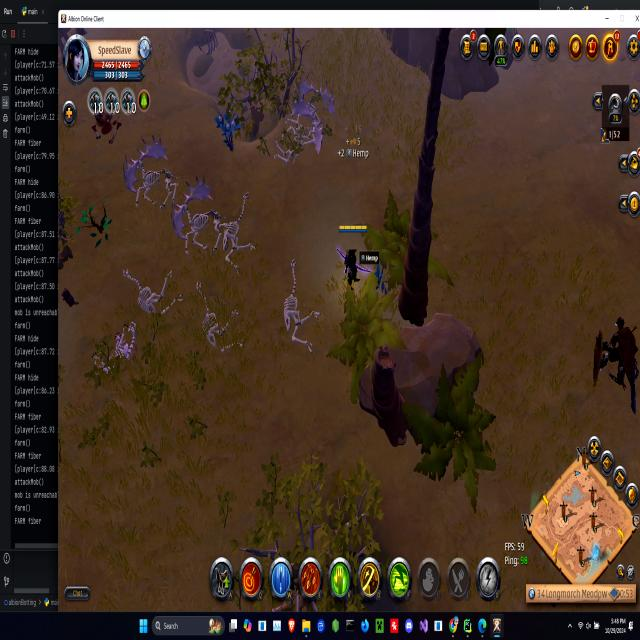hide: (216, 106, 240, 148)
ore: (592, 313, 640, 416)
red: (336, 220, 367, 288)
